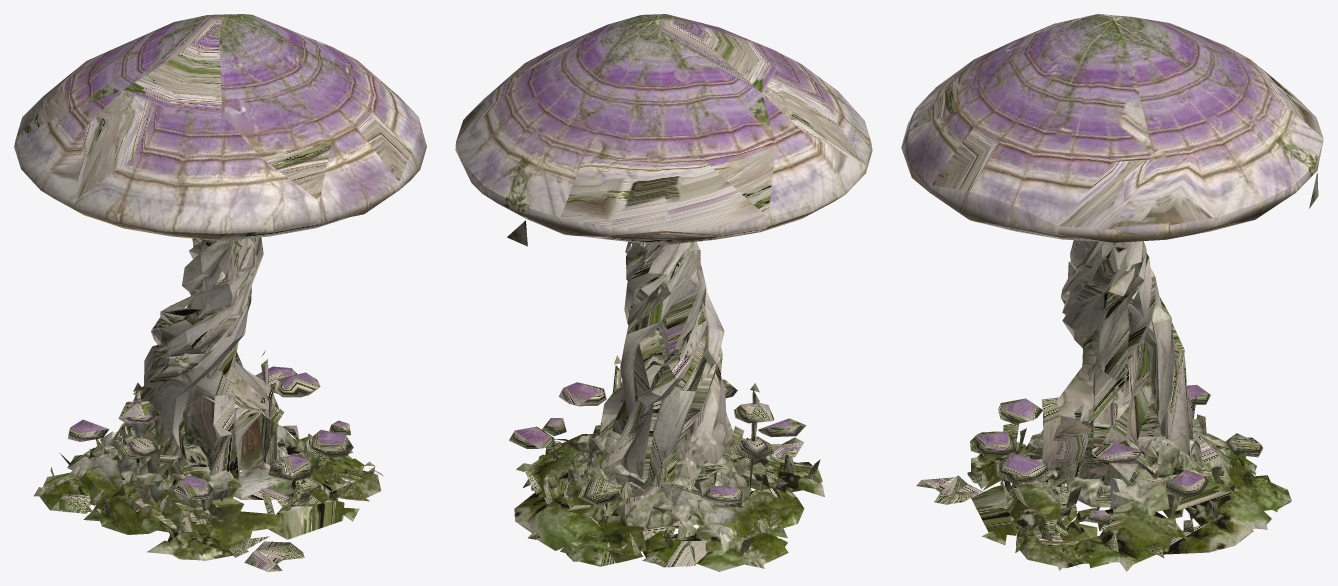
File: The_Enchanted_Mushroo.glb
3 views of the same model, side by side, from view 1: azimuth 30°, elevation 25°; view 2: azimuth 150°, elevation 25°; view 3: azimuth 270°, elevation 25° (orthographic). The views are drawn at different scales.
Parts seen in each view (by area): view 1: The_Enchanted_Mushroo; view 2: The_Enchanted_Mushroo; view 3: The_Enchanted_Mushroo.
Boxes of the visible parts, x1,y1,x2,y2 form: The_Enchanted_Mushroo: (14, 14, 426, 571); The_Enchanted_Mushroo: (455, 14, 872, 571); The_Enchanted_Mushroo: (901, 14, 1323, 571).
Bounding box in the file's own units: 0.7852 × 0.998 × 0.7813.
Materials: 1 (1 with a texture image).
